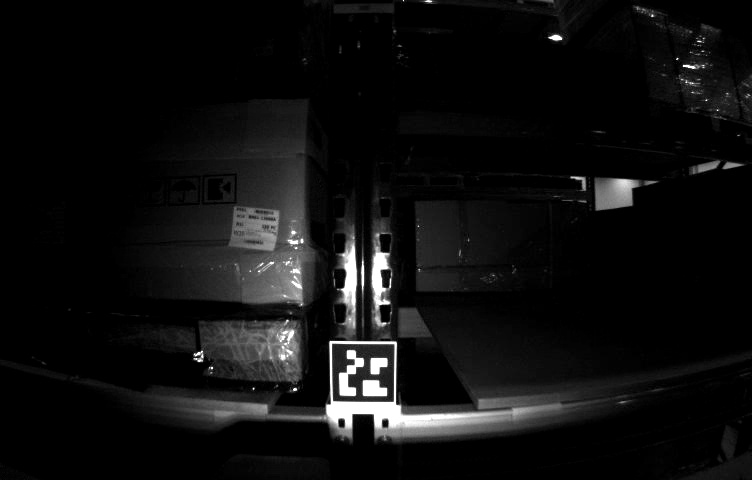True Barcode: (230, 205, 276, 252)
